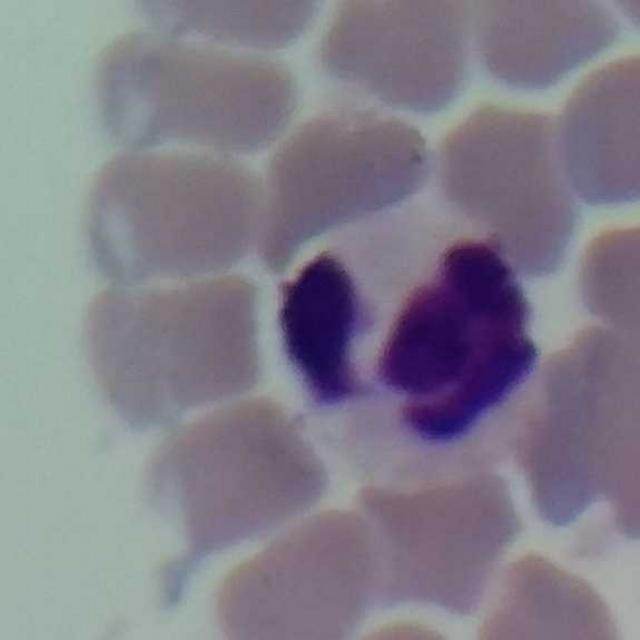Neutrophil: (266, 194, 556, 475)
RBC: (71, 262, 276, 428), (132, 391, 338, 553), (78, 16, 309, 160), (504, 316, 640, 551), (70, 138, 269, 289), (253, 102, 440, 258), (427, 97, 589, 266), (202, 501, 390, 640), (366, 461, 529, 602), (309, 1, 480, 118), (462, 0, 628, 98), (466, 545, 634, 640), (548, 48, 640, 216), (119, 0, 338, 56), (570, 215, 640, 343), (594, 376, 640, 557), (316, 615, 487, 640), (582, 0, 640, 48)
